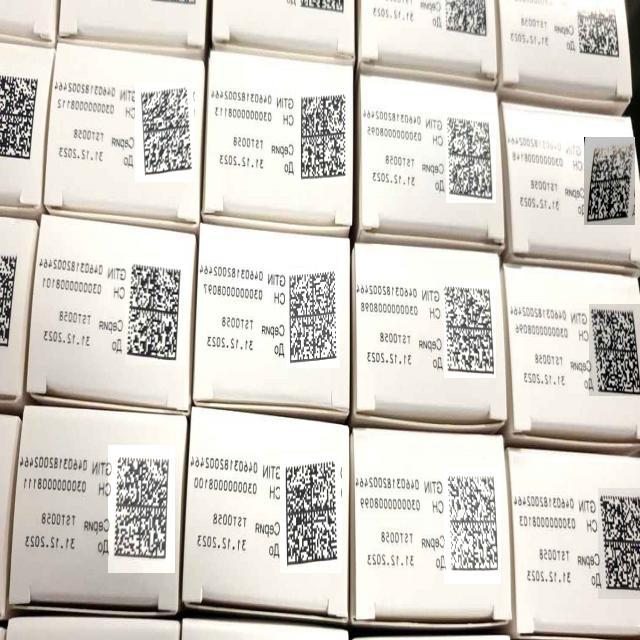Data-Matrix: (108, 445, 175, 573), (280, 454, 342, 573), (444, 468, 501, 584), (125, 258, 185, 365), (135, 82, 195, 182), (286, 268, 340, 368), (444, 280, 496, 378), (296, 88, 348, 184), (589, 304, 640, 396), (598, 488, 640, 599), (584, 137, 635, 225), (446, 115, 496, 203)
